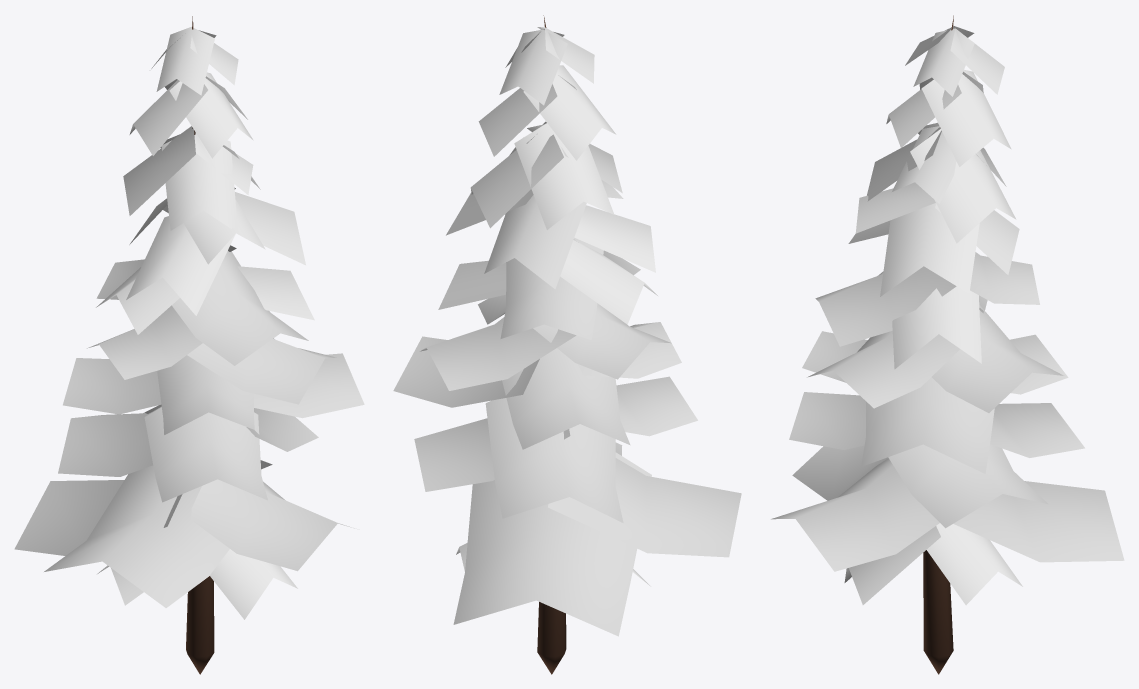
File: spruce_thin.fbx
3 views of the same model, side by side, from view 1: azimuth 30°, elevation 25°; view 2: azimuth 150°, elevation 25°; view 3: azimuth 270°, elevation 25° (orthographic).
Visible parts, largest first — view 1: Spruce_thin; view 2: Spruce_thin; view 3: Spruce_thin.
Part boxes in pixels (x1,y1,x2,y2): Spruce_thin: (14, 16, 364, 674); Spruce_thin: (393, 15, 741, 674); Spruce_thin: (771, 15, 1124, 674).
Bounding box in the file's own units: 273 × 569 × 276.
